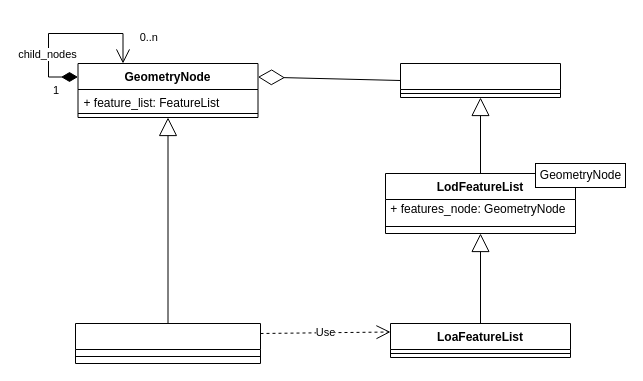
The diagram is 643 pixels wide and 381 high, and some of its shapes have lost their labels. Here are the shapes that lost their labels. From the top down, the centre of each, then its label:
At pixel 480 80: "FeatureList".
At pixel 167 343: "LoaNode".
